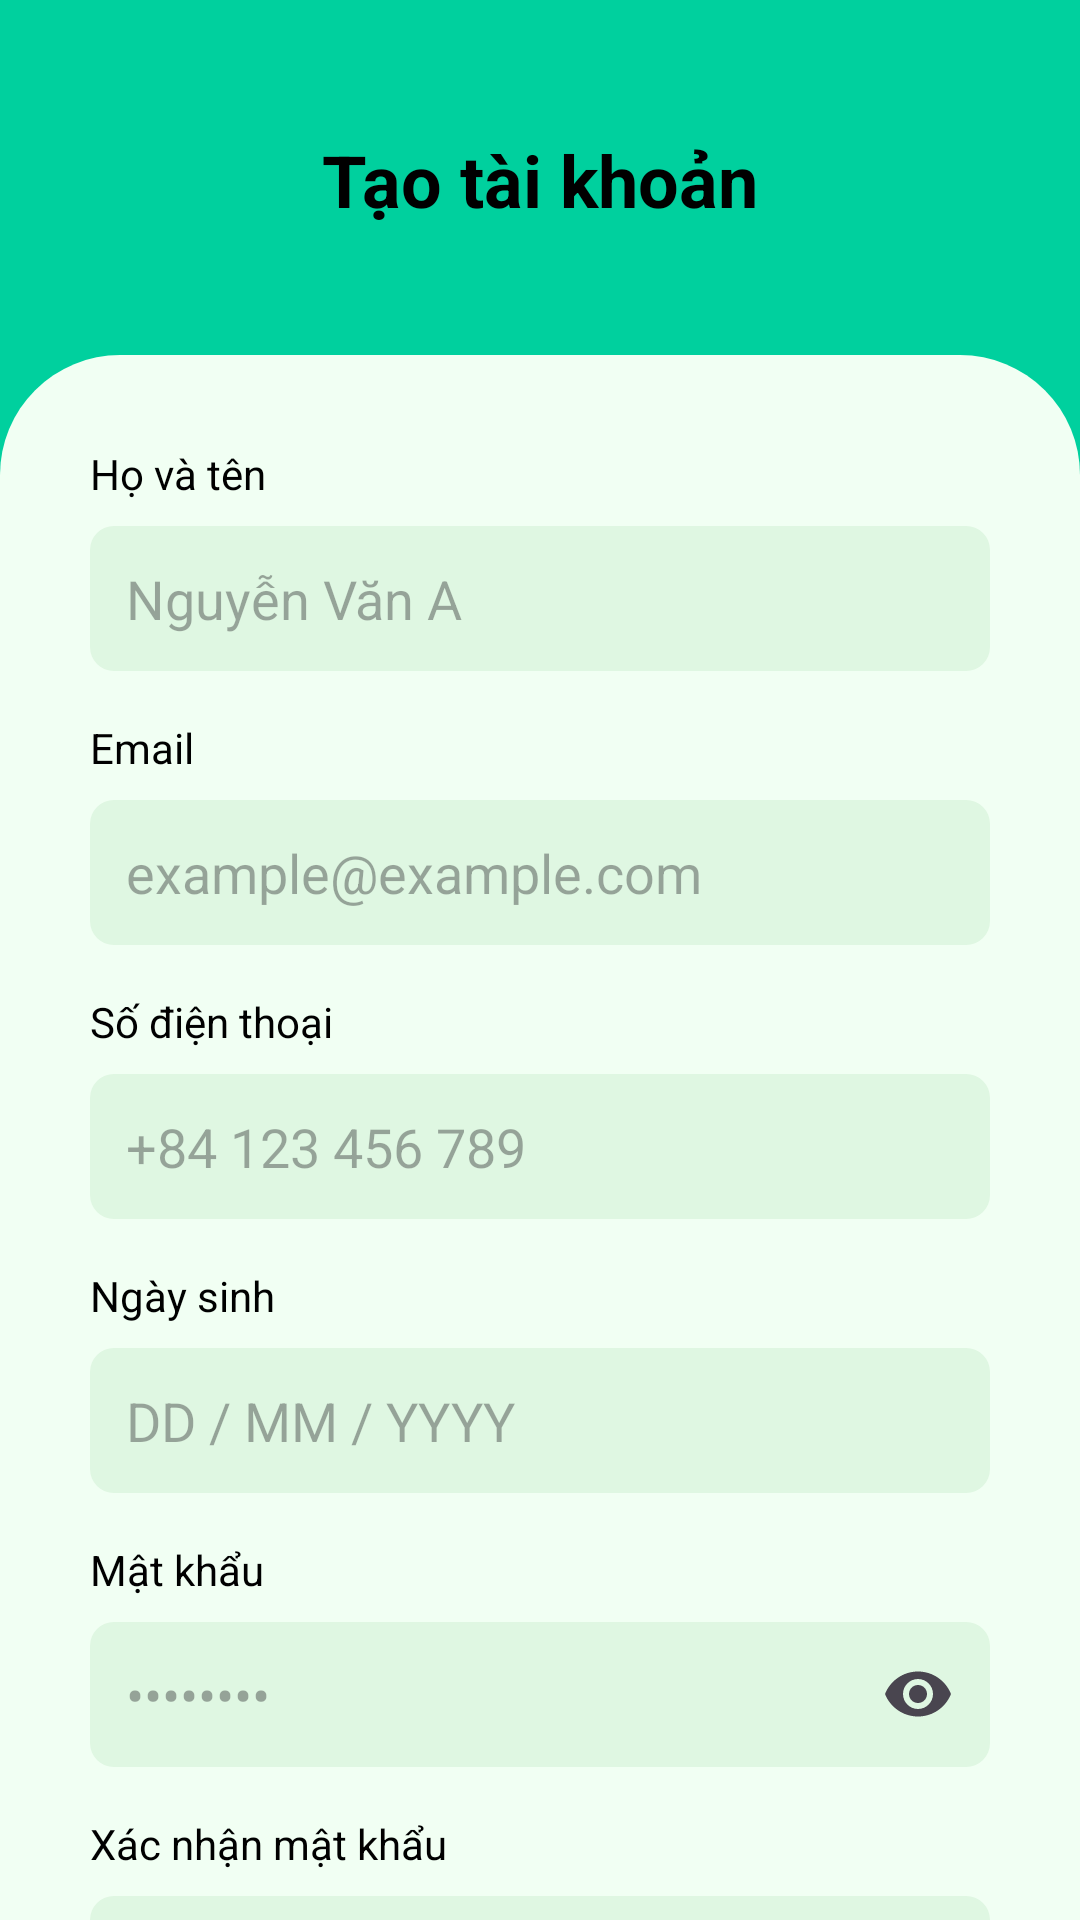

Screen size 1080px×1920px. Icon name, then its center in pixels as (x,y):
visibility: (918,1694)
